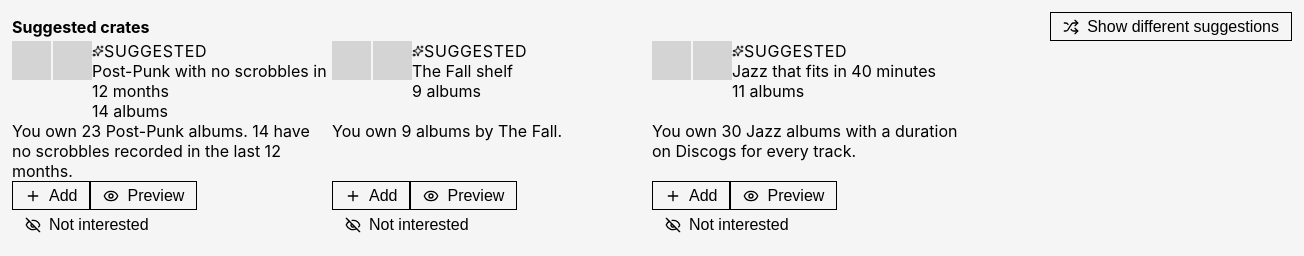
Test: CrateSuggestions › dismisses a suggestion and renders the backfilled batch
This screenshot has width=1304, height=256.
Click the button "Not interested" below "Post-Punk with no scrobbles in 12 months" at (87,225), box [12, 210, 162, 240]
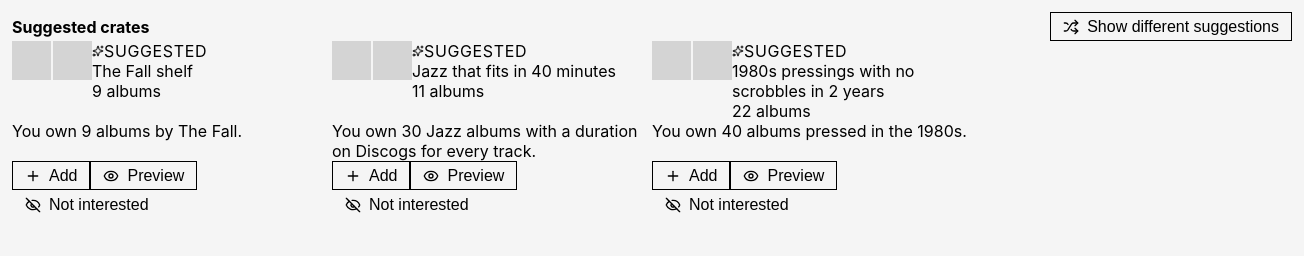
Expected: the heading "1980s pressings with no scrobbles in 2 years" is shown, [732, 61, 914, 101]
Expected: the heading "Post-Punk with no scrobbles in 12 months" is gone
